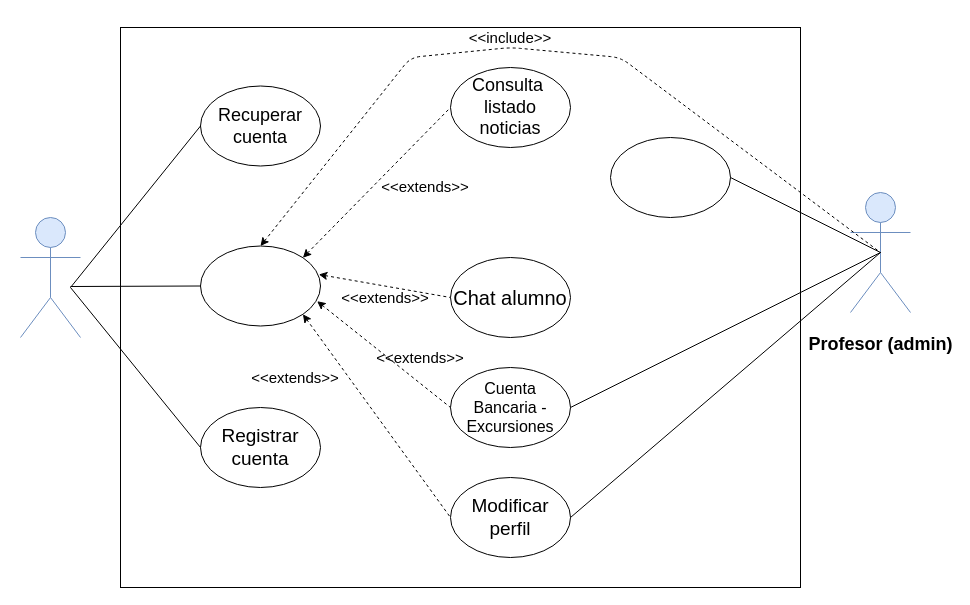
The diagram is 970 pixels wide and 605 high, and some of its shapes have lost their labels. Here are the shapes that lost their labels. From the top down, the centre of each, then its label:
At (x=670, y=177): "Crear nueva noticia".
At (x=50, y=277): "Alumno".
At (x=260, y=285): "Inicio de sesión".
